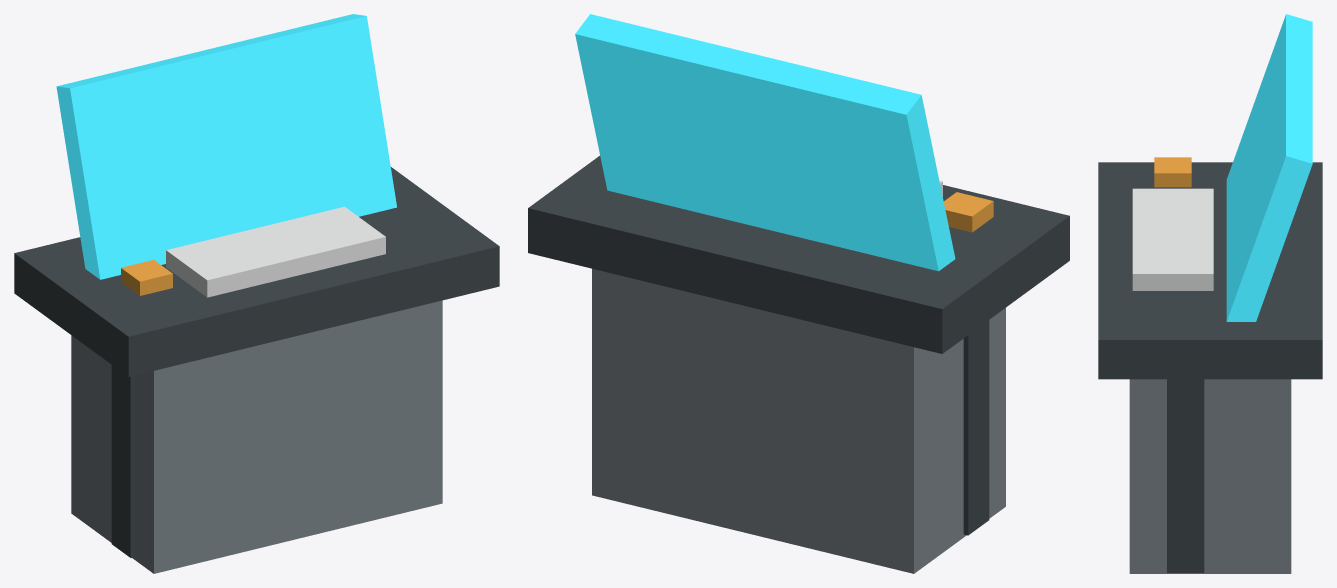
Rendered from gravifire_science_console.glb.
The picture shows the model from 3 angles, left to right: view 1: azimuth 30°, elevation 25°; view 2: azimuth 150°, elevation 25°; view 3: azimuth 270°, elevation 25°; orthographic projection. The views are drawn at different scales.
Parts seen in each view (by area): view 1: console_base, display, console_top, keyboard, leg_l, status_key; view 2: console_base, display, console_top, leg_l, status_key; view 3: console_top, console_base, display, keyboard, leg_r, status_key.
Boxes of the visible parts, box(x1,y1,x2,y2) form: console_base: box(71, 300, 442, 573); display: box(56, 14, 396, 279); console_top: box(14, 167, 499, 376); keyboard: box(166, 206, 385, 297); leg_l: box(111, 365, 134, 557); status_key: box(121, 259, 172, 295); console_base: box(592, 268, 1005, 573); display: box(575, 14, 955, 271); console_top: box(528, 156, 1069, 353); leg_l: box(963, 320, 989, 535); status_key: box(943, 192, 993, 232); console_top: box(1098, 162, 1322, 379); console_base: box(1129, 379, 1291, 573); display: box(1226, 14, 1312, 321); keyboard: box(1132, 188, 1213, 290); leg_r: box(1167, 379, 1204, 572); status_key: box(1154, 157, 1191, 187).
Size of the model in its own units: 1.35 by 1.49 by 0.72.
